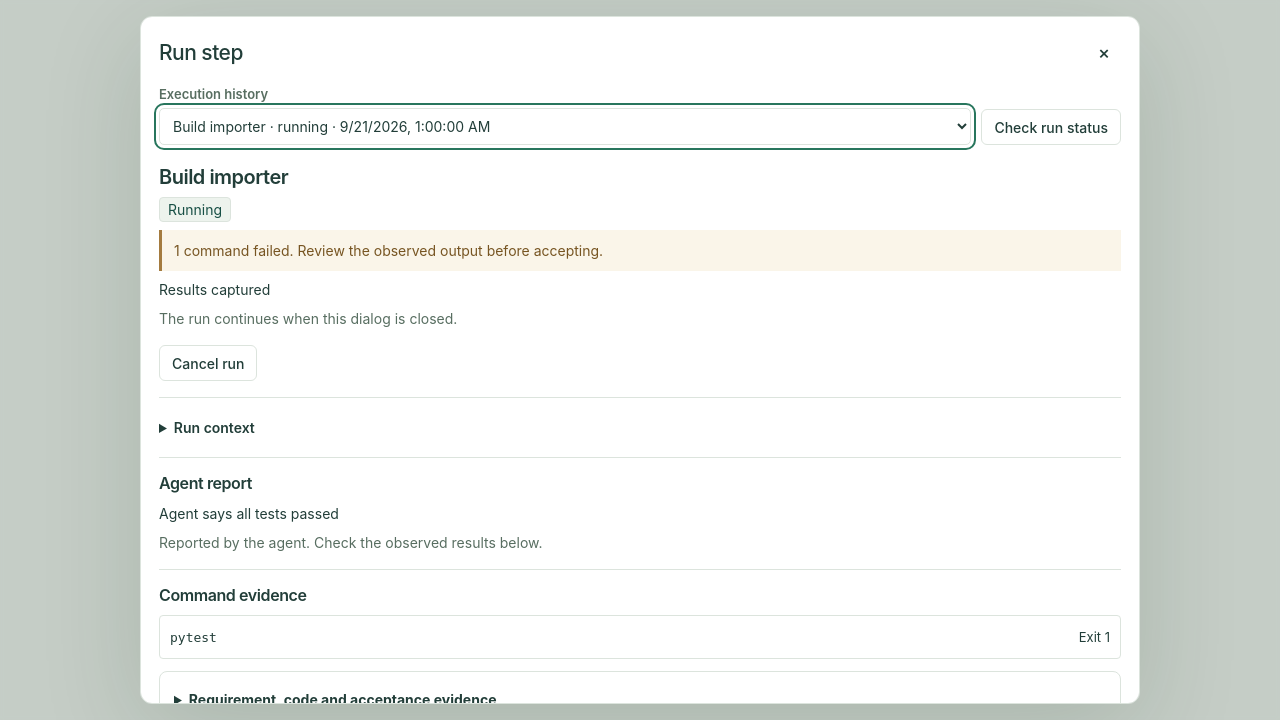
Test case: execution review and explicit actions › does not let a slow poll overwrite an explicit cancellation response
Click the button "Cancel run": (208, 363) [159, 345, 258, 381]
Wait 3000 ms
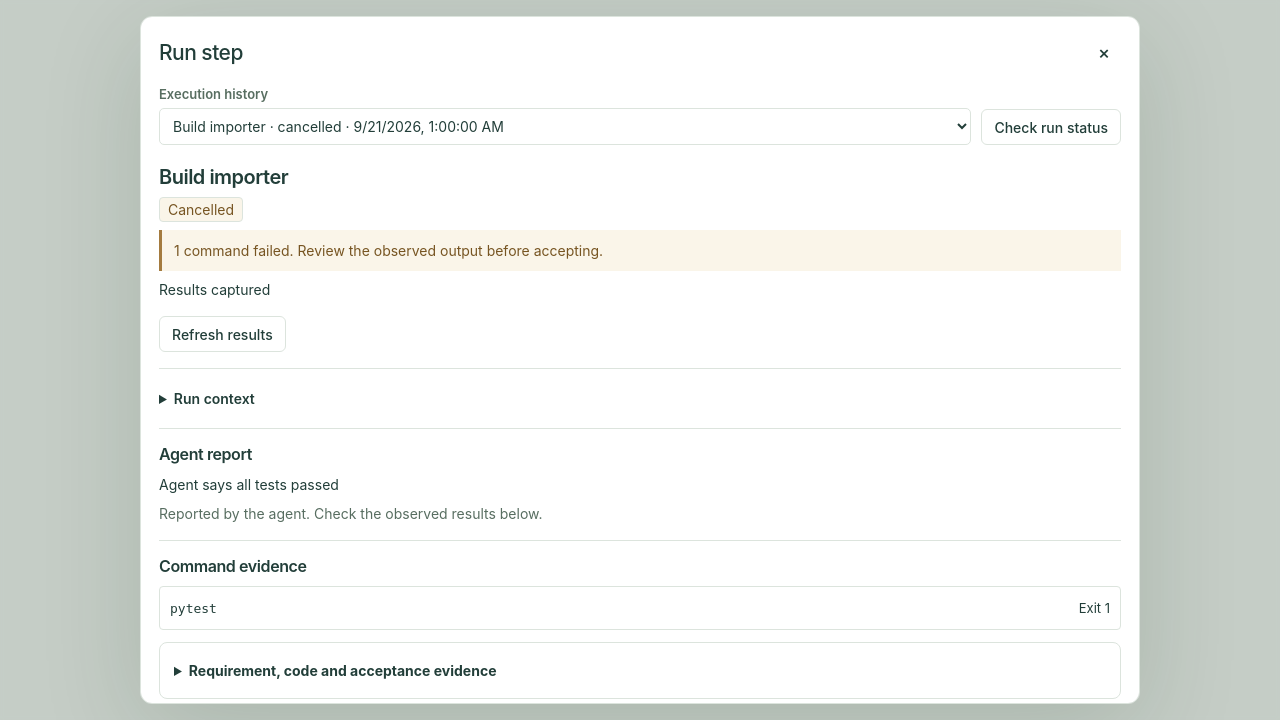
Expected: the text "cancelled" is shown, [159, 197, 243, 222]
